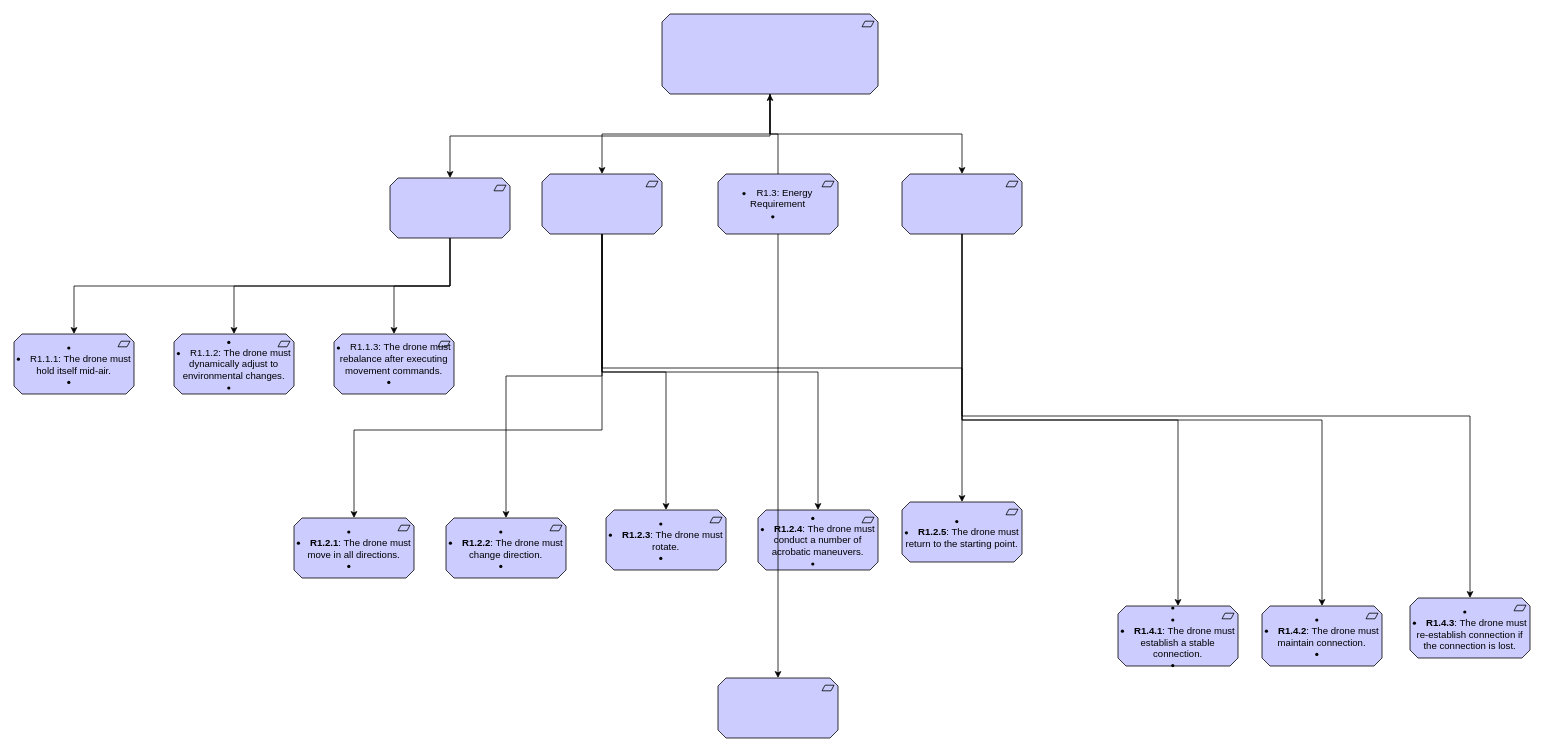
The diagram is 1544 pixels wide and 752 high, and some of its shapes have lost their labels. Here are the shapes that lost their labels. From the top down, the box of each, then its label:
(661, 13, 878, 94): R1: Drone Requirements
(389, 177, 510, 238): R1.1: Balance Requirement
(541, 173, 662, 234): R1.2: Movement Requirement
(901, 173, 1022, 234): R1.4: Control Requirement
(717, 677, 838, 738): R1.3.1 : The drone must fly continuously for at least 30 minutes.
